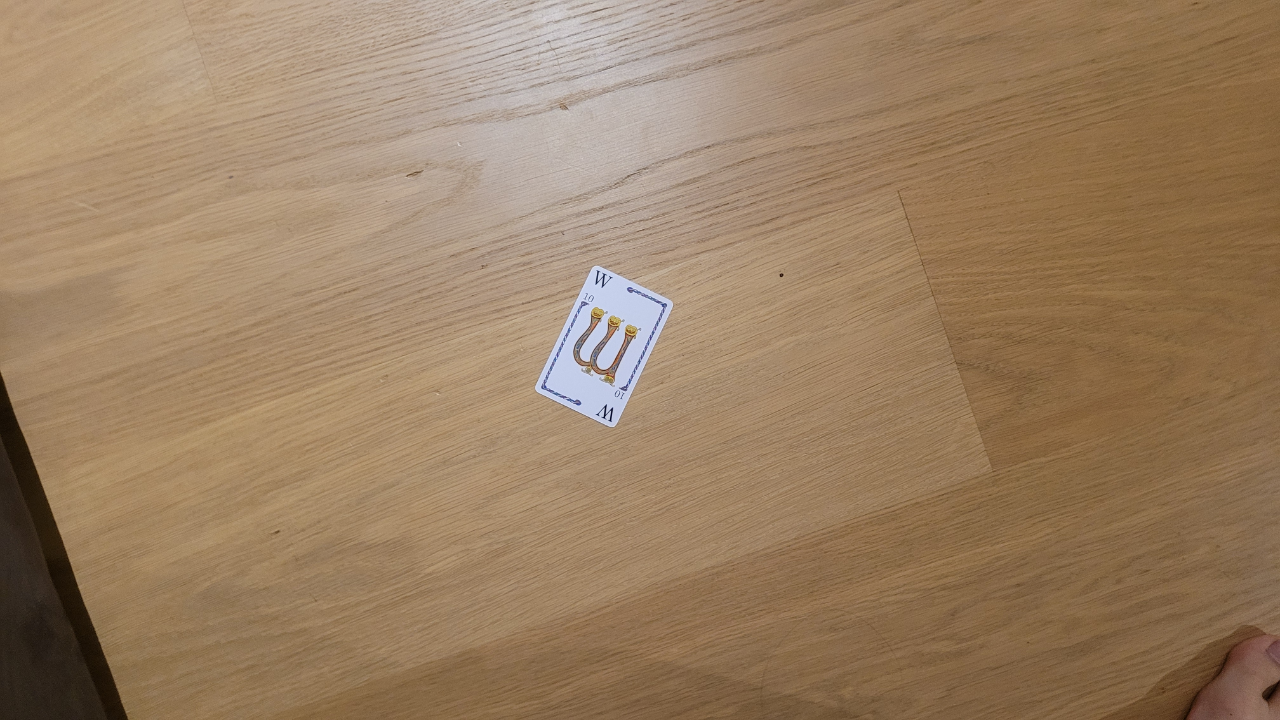quiddler_card: (526, 253, 688, 441)
